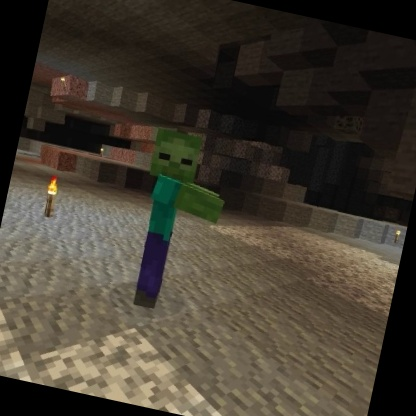zombie: (115, 123, 242, 324)
